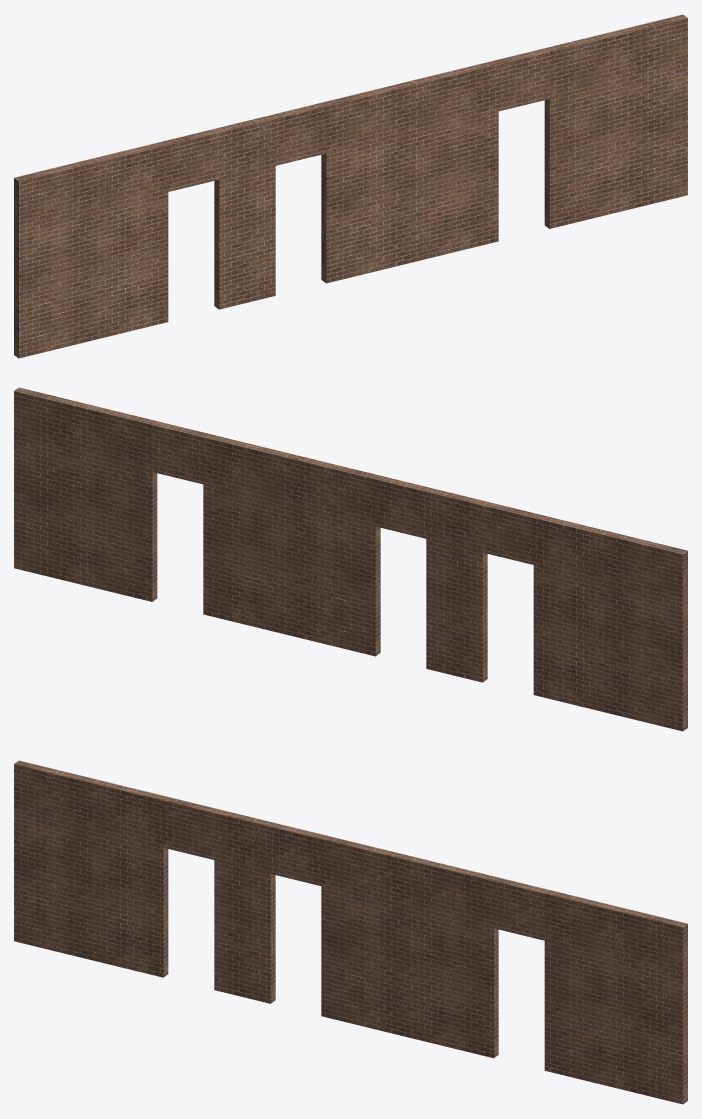
Rendered from Joglo_part_342.fbx.
3 renders of one model, top to bottom at view 1: azimuth 30°, elevation 25°; view 2: azimuth 150°, elevation 25°; view 3: azimuth 330°, elevation 25°, orthographic.
Parts seen in each view (by area): view 1: Mesh39_Brick___Brown_0.001; view 2: Mesh39_Brick___Brown_0.001; view 3: Mesh39_Brick___Brown_0.001.
Part boxes in pixels (bbox=[...]): Mesh39_Brick___Brown_0.001: bbox=[14, 14, 687, 358]; Mesh39_Brick___Brown_0.001: bbox=[14, 387, 687, 731]; Mesh39_Brick___Brown_0.001: bbox=[14, 760, 687, 1104].
Bounding box in the file's own units: 467 × 118 × 5.9.
